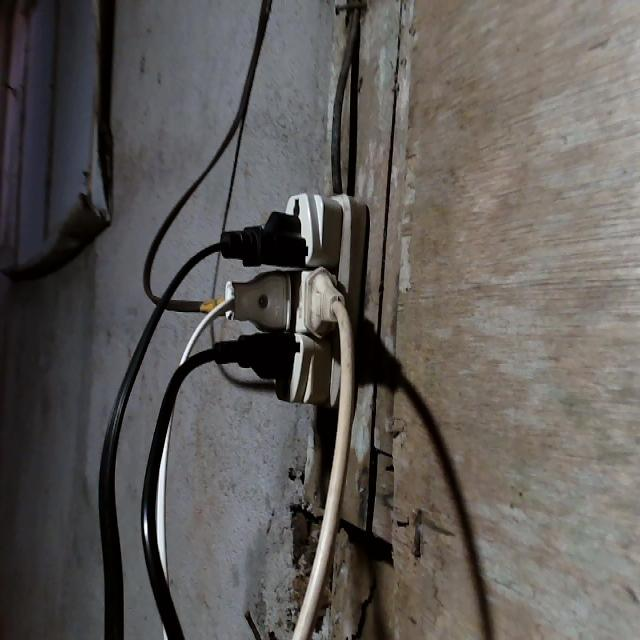-: (188, 184, 373, 411)
